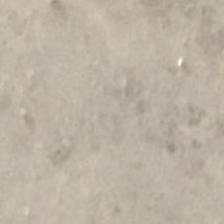Non_Crack: (31, 35, 194, 175)
